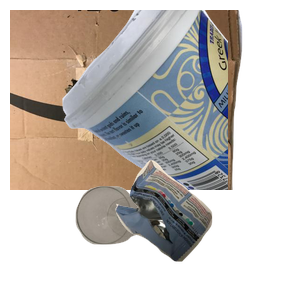cardboard: (10, 10, 245, 190)
glass: (73, 184, 214, 300)
plastic: (60, 10, 300, 190)
trash: (113, 157, 300, 300)
